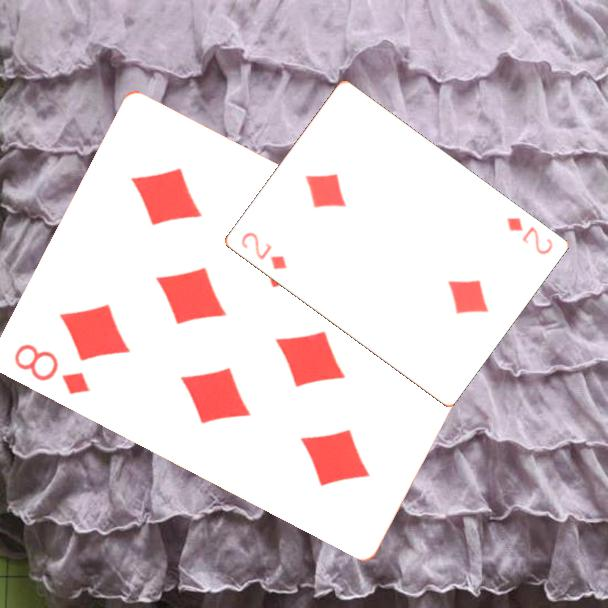d02: (237, 228, 290, 273), (502, 214, 555, 258)
d08: (11, 340, 95, 397)
